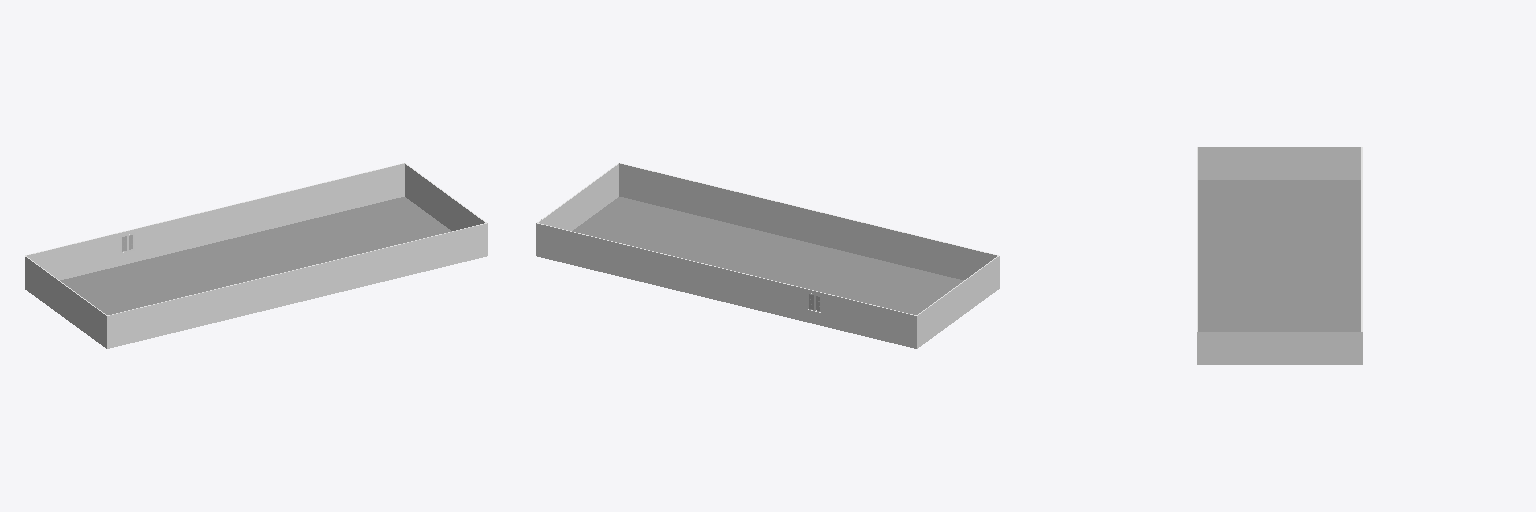
File: cuarto.obj
3 renders of one model, left to right at view 1: azimuth 30°, elevation 25°; view 2: azimuth 150°, elevation 25°; view 3: azimuth 270°, elevation 25°, orthographic.
Parts seen in each view (by area): view 1: ground_1, wall_3_16, wall_1_5, wall_4_22, wall_2_11; view 2: ground_1, wall_1_4, wall_3_17, wall_4_22, wall_2_11; view 3: ground_1, wall_2_10, wall_4_23.
Boxes of the visible parts, x1=… form: ground_1: x1=60, y1=197, x2=451, y2=314; wall_3_16: x1=107, y1=223, x2=487, y2=348; wall_1_5: x1=27, y1=163, x2=404, y2=279; wall_4_22: x1=25, y1=257, x2=106, y2=348; wall_2_11: x1=405, y1=164, x2=484, y2=230; ground_1: x1=557, y1=197, x2=963, y2=342; wall_1_4: x1=536, y1=223, x2=916, y2=348; wall_3_17: x1=619, y1=163, x2=996, y2=279; wall_4_22: x1=917, y1=256, x2=999, y2=348; wall_2_11: x1=539, y1=164, x2=618, y2=230; ground_1: x1=1198, y1=180, x2=1360, y2=331; wall_2_10: x1=1197, y1=332, x2=1362, y2=364; wall_4_23: x1=1198, y1=147, x2=1360, y2=179.
Bounding box in the file's own units: 2939 × 244 × 1105.